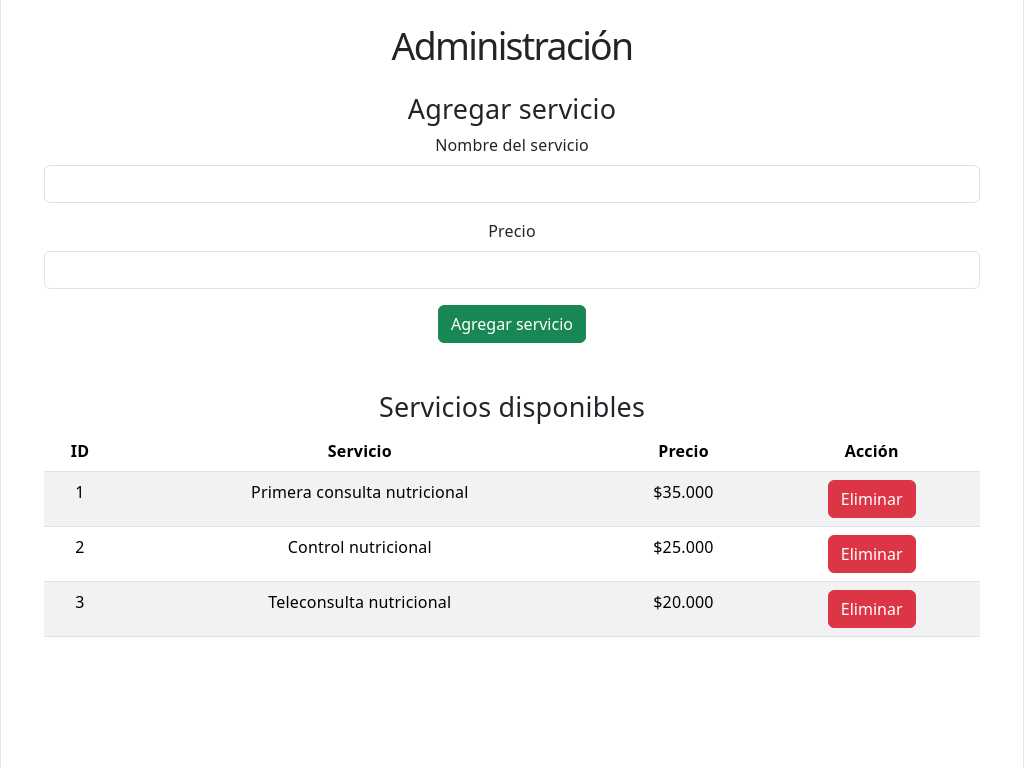
Componente Administracion › permite agregar un nuevo servicio
The width and height of the screenshot is (1024, 768).
Type "Consulta vegetariana" into the field labelled "Nombre del servicio" at (512, 184), box [44,165,980,203]
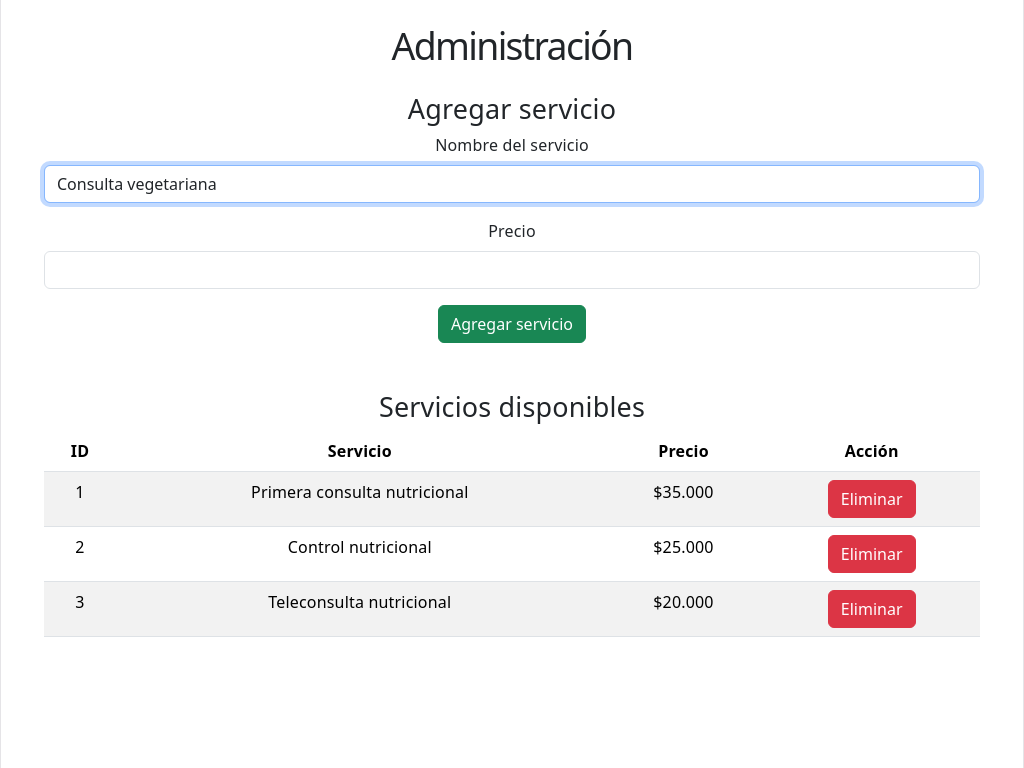
Type "30000" into the number field labelled "Precio" at (512, 270), box [44,251,980,289]
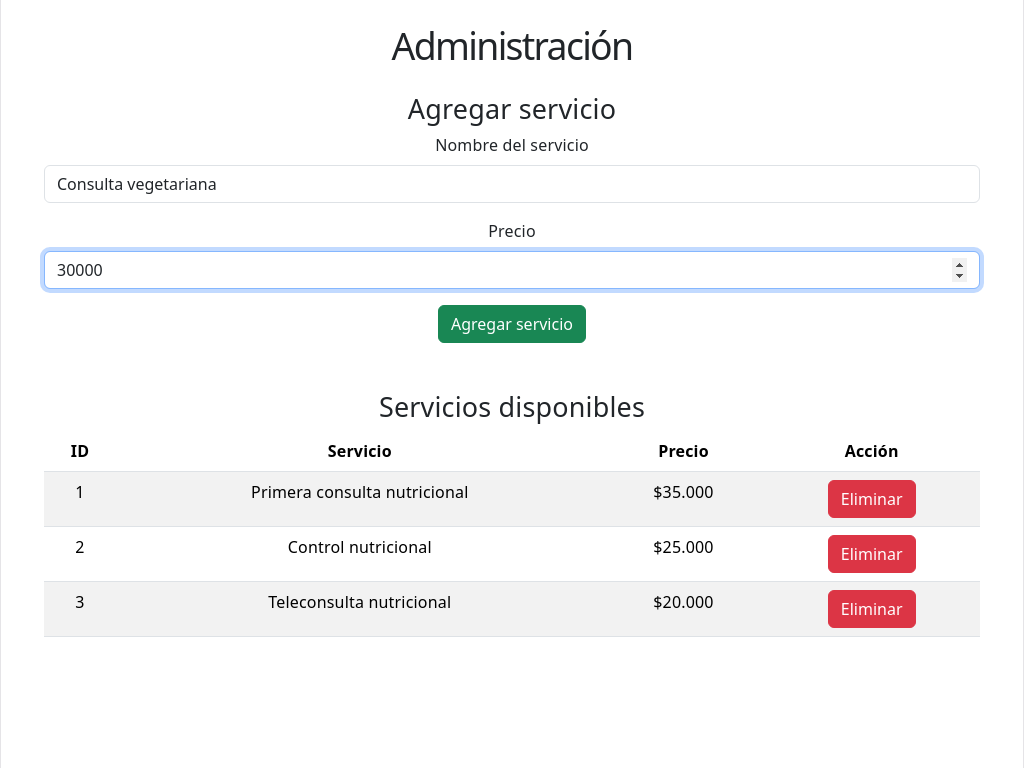
Click the button "Agregar servicio" at (512, 324), box [438,305,586,343]
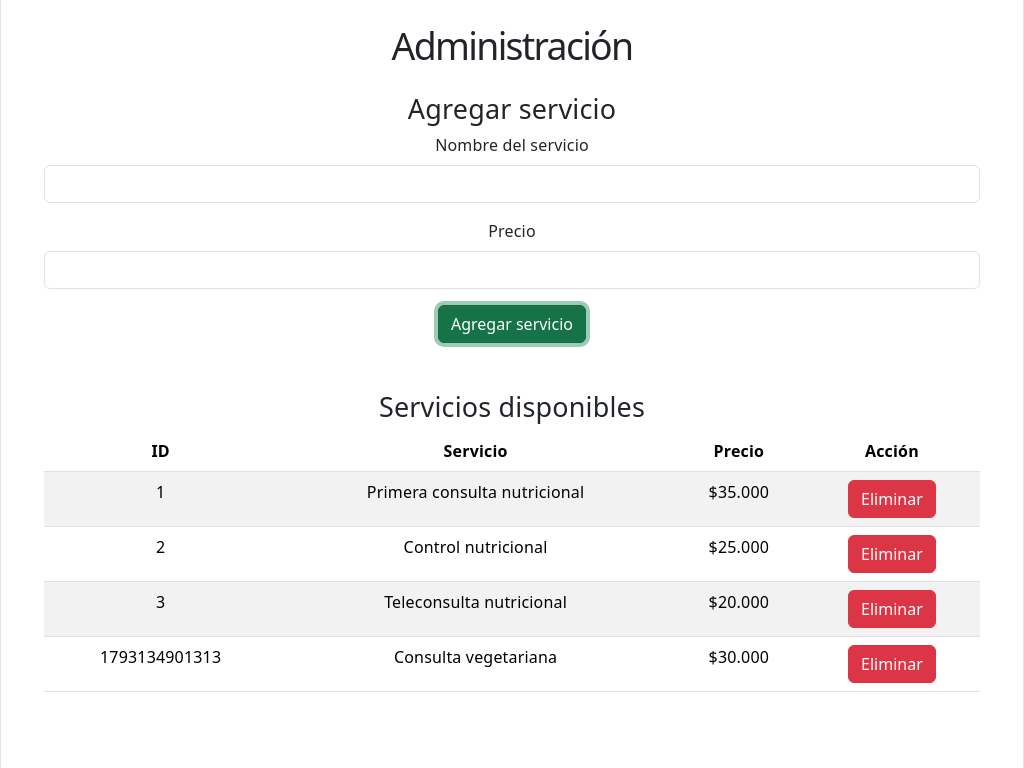
Expected: the text "Consulta vegetariana" is shown, [277,637,674,692]
